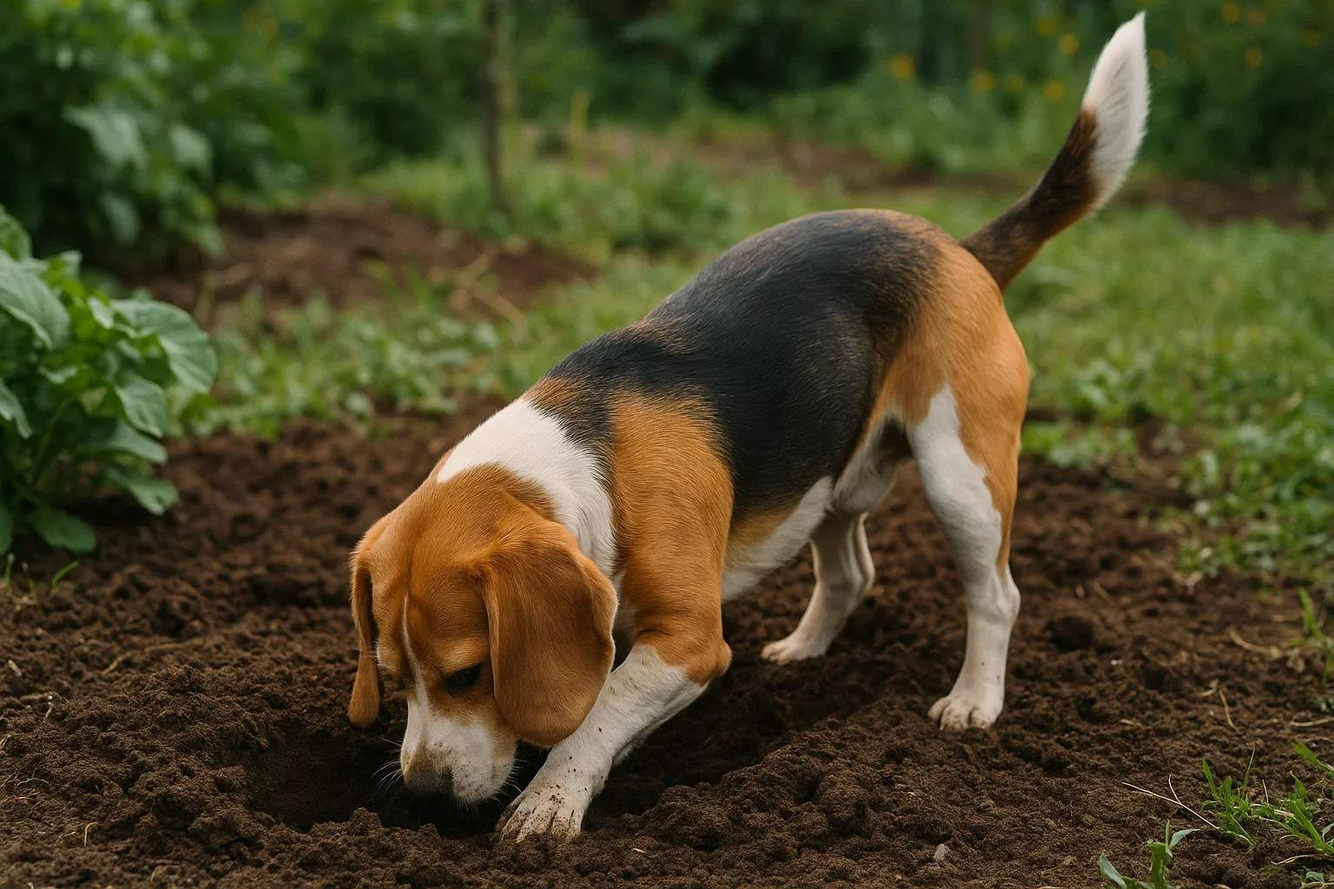adult_dog: (341, 9, 1152, 848)
